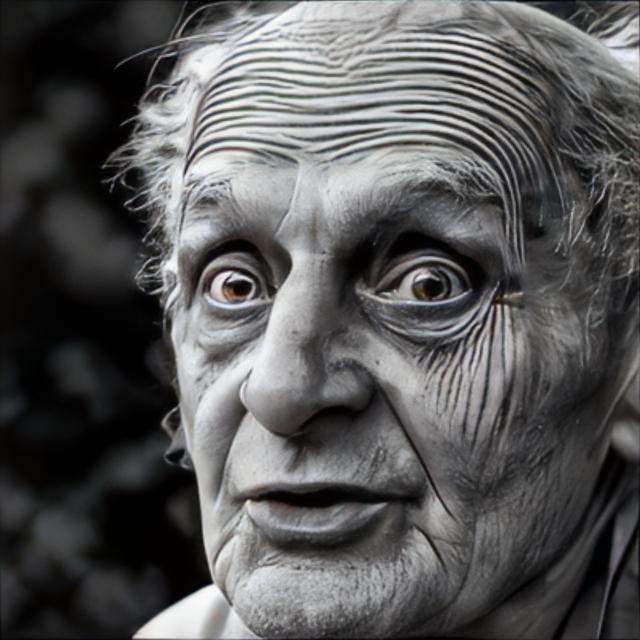surprise: (174, 0, 613, 640)
